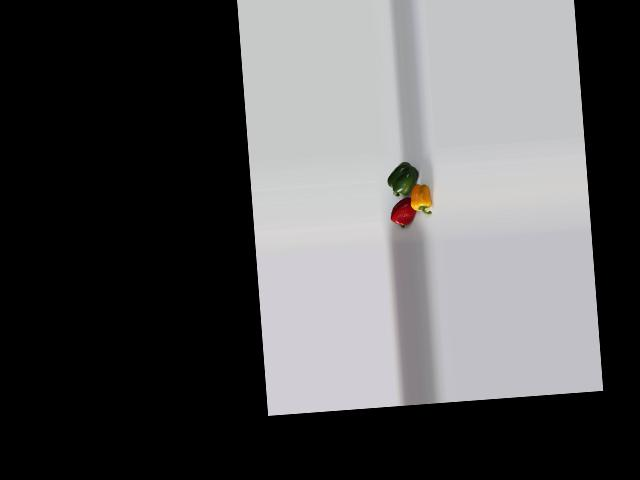bell_pepper: (404, 182, 435, 216)
